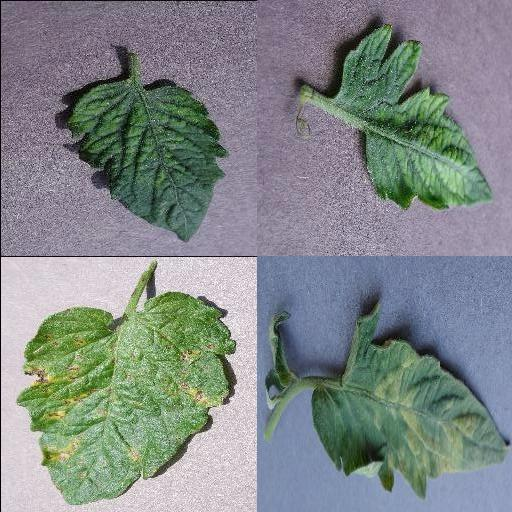Leaf Mold: (309, 300, 511, 500)
Mosaic Virus: (336, 26, 496, 212), (62, 78, 228, 244)
Septoria: (15, 291, 235, 507)
